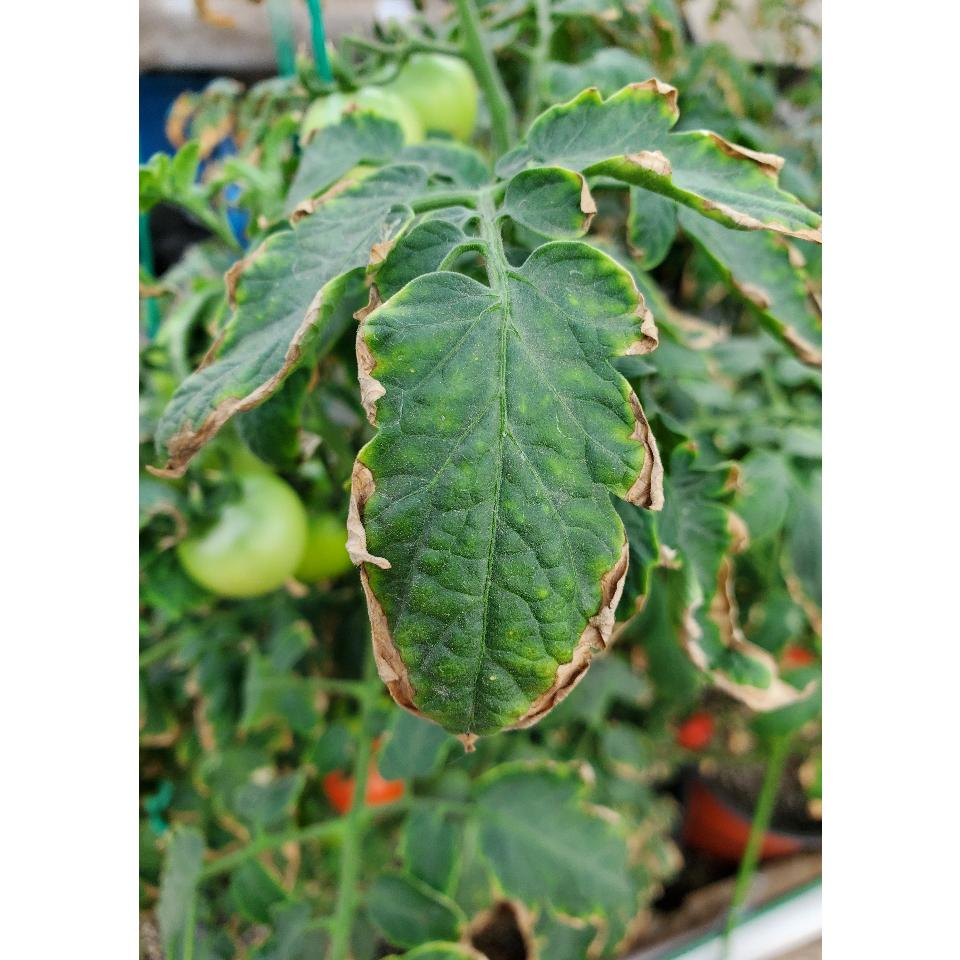tomato_bacterial_blight: (354, 269, 670, 740)
